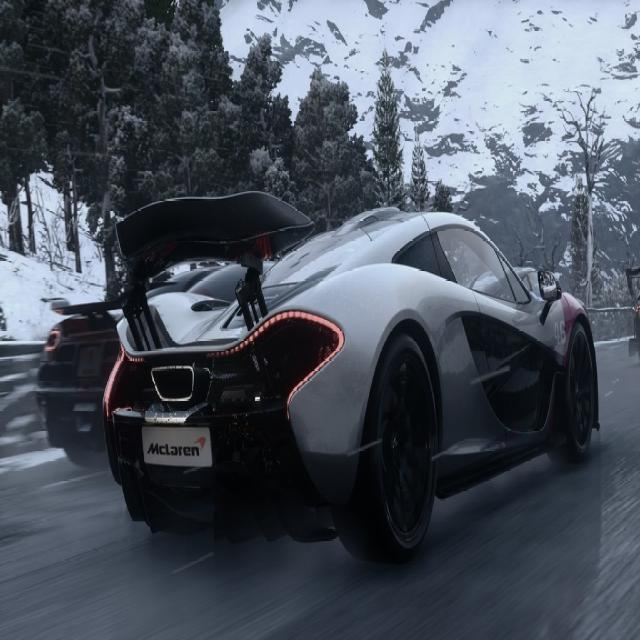car: (32, 195, 599, 564)
